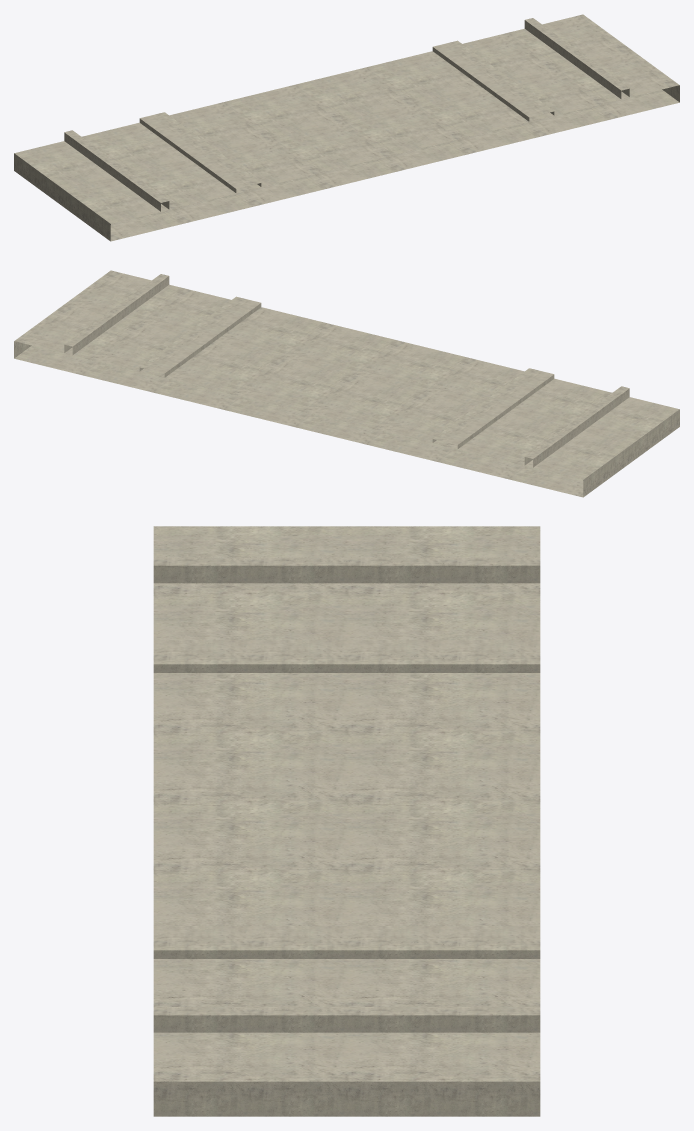
File: SuspBridgeBase-2L-10M.FBX
The picture shows the model from 3 angles, top to bottom: view 1: azimuth 30°, elevation 25°; view 2: azimuth 150°, elevation 25°; view 3: azimuth 270°, elevation 25°; orthographic projection. The views are drawn at different scales.
Parts seen in each view (by area): view 1: SuspBridgeBase-2L-10m; view 2: SuspBridgeBase-2L-10m; view 3: SuspBridgeBase-2L-10m.
Boxes of the visible parts, bbox=[...] form: SuspBridgeBase-2L-10m: bbox=[14, 14, 679, 241]; SuspBridgeBase-2L-10m: bbox=[14, 270, 679, 497]; SuspBridgeBase-2L-10m: bbox=[153, 526, 540, 1116].
Size of the model in its own units: 34 by 1.5 by 10.
